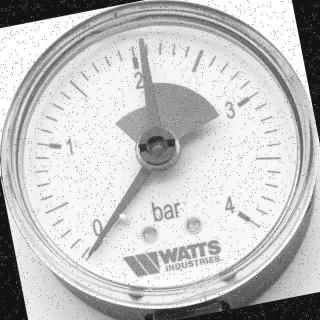gauge: (0, 0, 320, 320), (135, 126, 182, 170), (223, 193, 257, 233), (84, 214, 118, 252), (135, 34, 149, 50), (84, 244, 98, 260)
